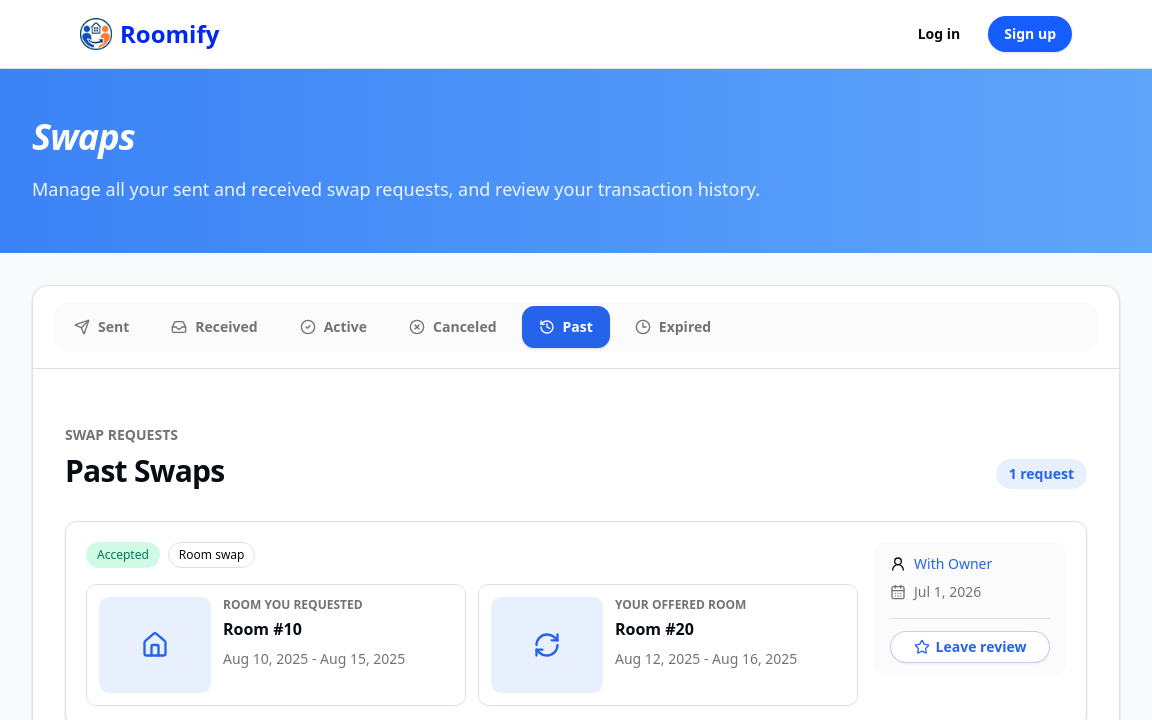
Test: SwapsPage review flow › reviews the requested room when the current user owns the offered room
Click the button "Leave review" at (970, 647), box [890,631,1050,663]
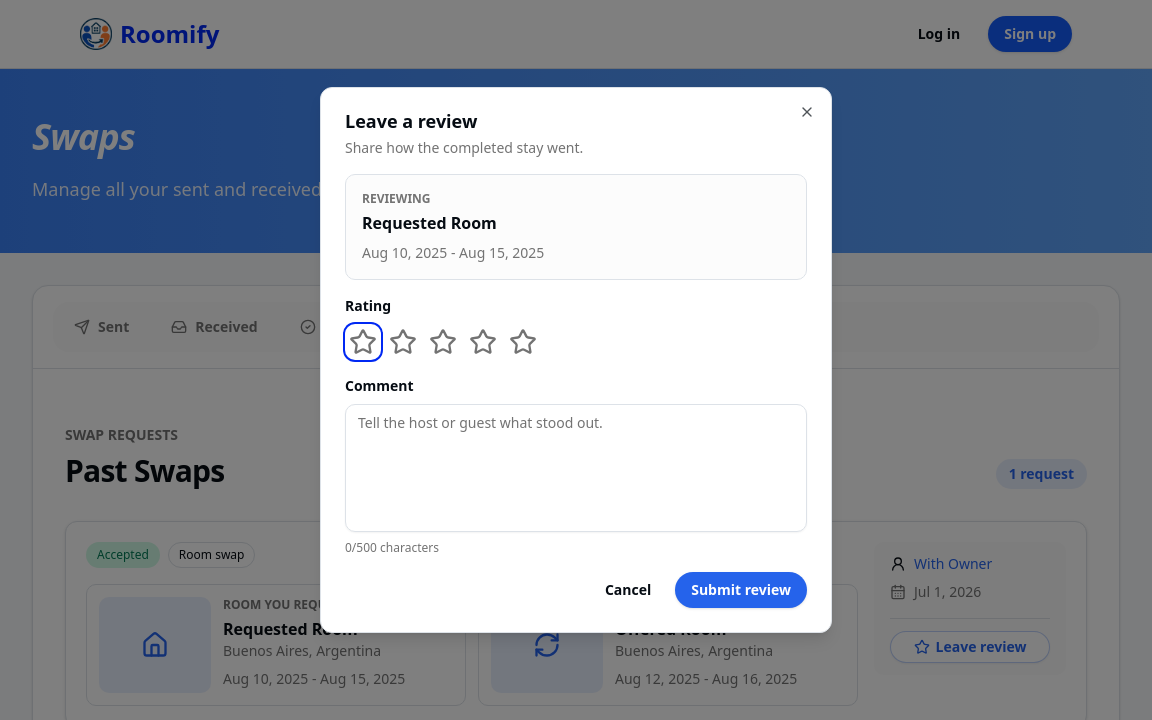
Result: the heading "Requested Room" is shown at [362,212,497,234]
